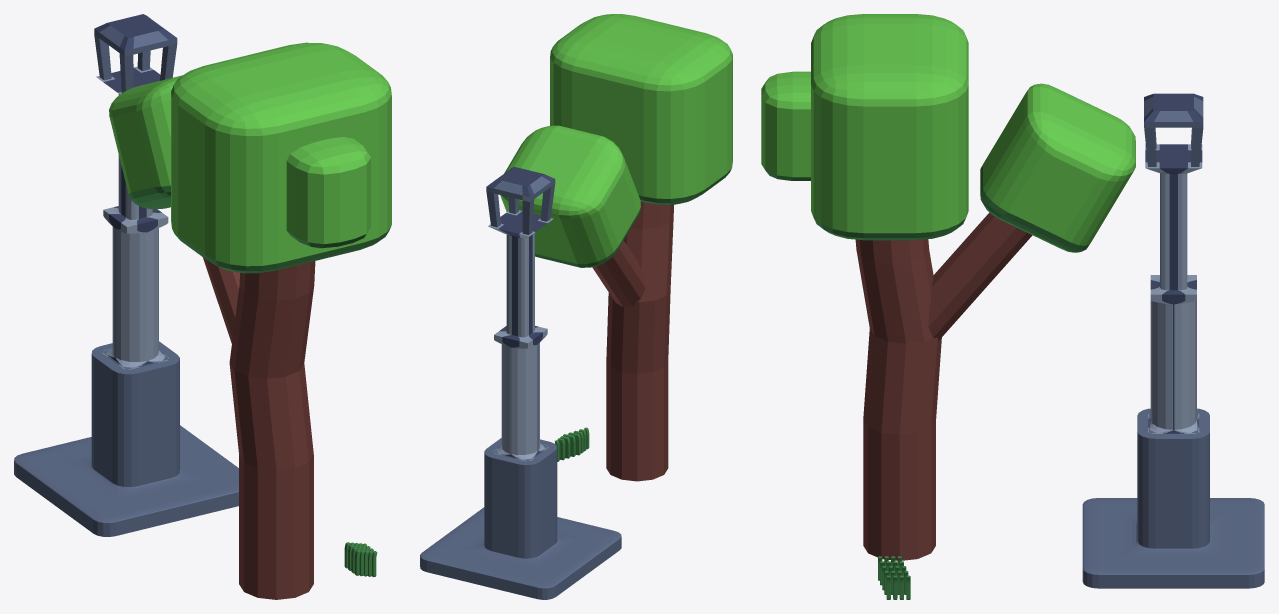
File: Facundo_Valenzuela_Arbol_Poste_Pasto.fbx
The picture shows the model from 3 angles, left to right: view 1: azimuth 30°, elevation 25°; view 2: azimuth 150°, elevation 25°; view 3: azimuth 270°, elevation 25°; orthographic projection. The views are drawn at different scales.
Parts seen in each view (by area): view 1: Cylinder, Cube.002, Cube.001; view 2: Cylinder, Cube.002, Cube.001; view 3: Cylinder, Cube.002, Cube.001.
Boxes of the visible parts, x1,y1,x2,y2 form: Cylinder: (109, 42, 391, 599); Cube.002: (14, 14, 238, 536); Cube.001: (344, 542, 377, 577); Cylinder: (500, 14, 732, 481); Cube.002: (420, 167, 621, 599); Cube.001: (554, 427, 589, 461); Cylinder: (761, 14, 1135, 560); Cube.002: (1082, 93, 1264, 588); Cube.001: (878, 556, 910, 599).
Size of the model in its own units: 228 by 620 by 553.
3 materials, 3 textured.
